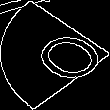O_SE: (8, 22, 102, 88)
